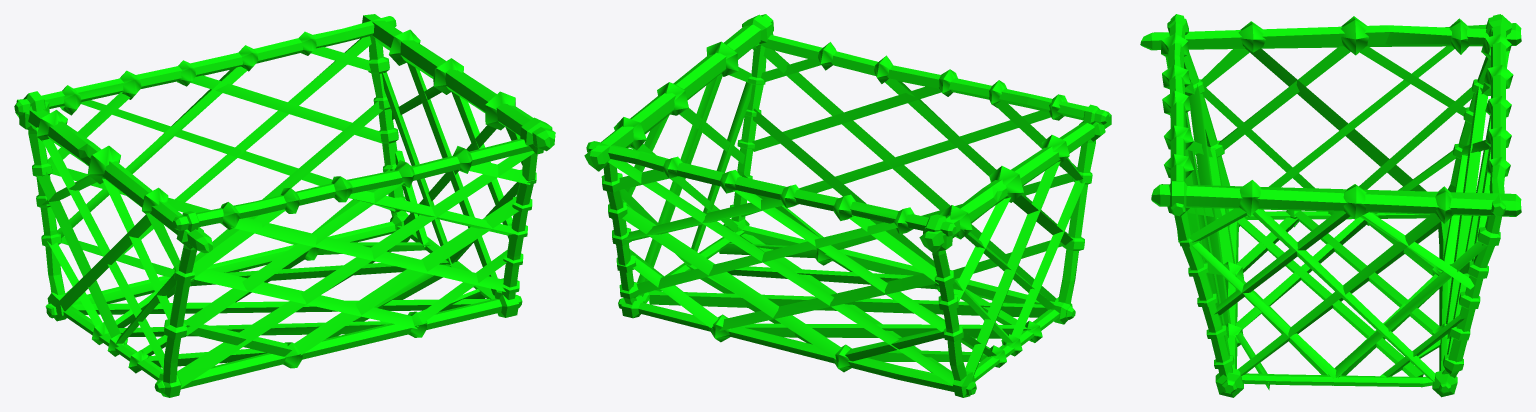
File: SM_Basket_Fantasy_Rope_A.fbx
3 renders of one model, left to right at view 1: azimuth 30°, elevation 25°; view 2: azimuth 150°, elevation 25°; view 3: azimuth 270°, elevation 25°, orthographic. The views are drawn at different scales.
Visible parts, largest first — view 1: basket-fantasy-rope-a; view 2: basket-fantasy-rope-a; view 3: basket-fantasy-rope-a.
Part boxes in pixels (box(x1,y1,x2,y2)): basket-fantasy-rope-a: box(14, 14, 555, 397); basket-fantasy-rope-a: box(584, 14, 1111, 397); basket-fantasy-rope-a: box(1140, 14, 1521, 397).
Size of the model in its own units: 0.5794 by 0.3167 by 0.4996.
